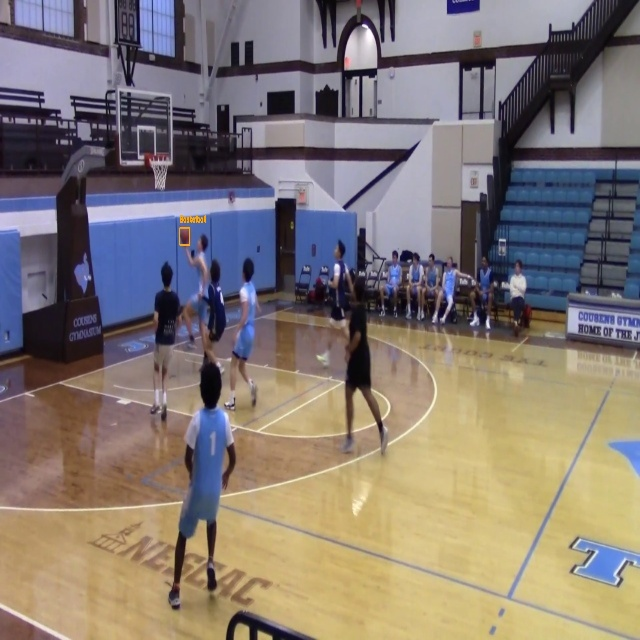Basketball: (180, 228, 190, 245)
